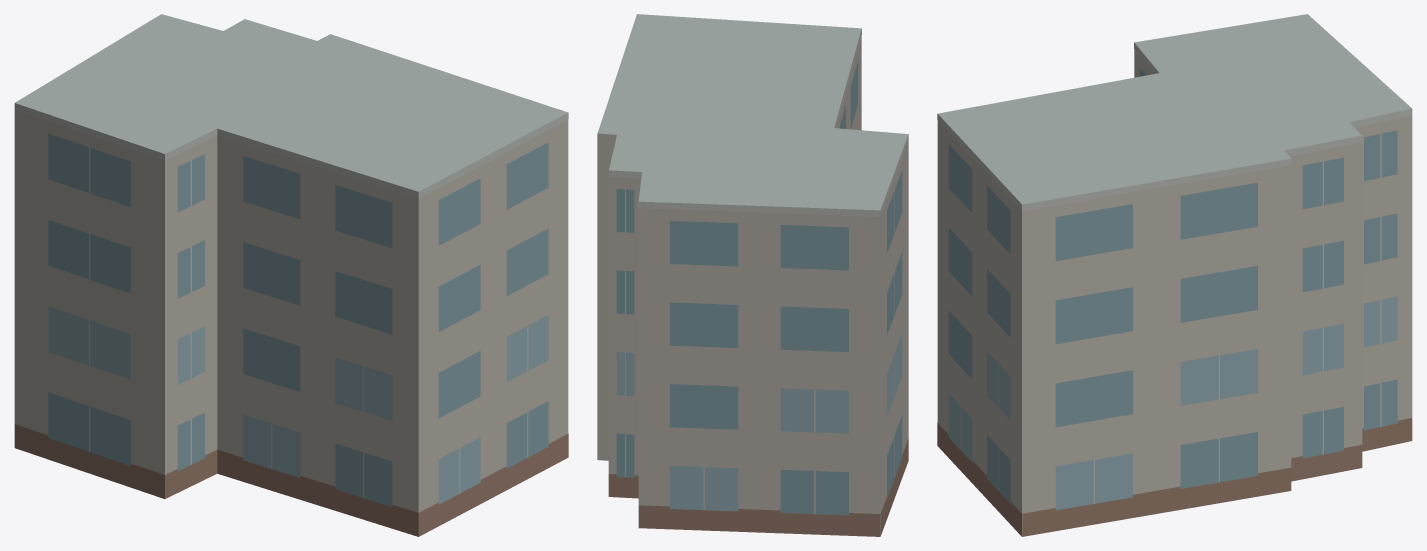
The model's file is survey-upis-32652188.glb.
The picture shows the model from 3 angles, left to right: view 1: azimuth 30°, elevation 25°; view 2: azimuth 150°, elevation 25°; view 3: azimuth 270°, elevation 25°; orthographic projection. The views are drawn at different scales.
Parts seen in each view (by area): view 1: survey-upis-32652188.tmp; view 2: survey-upis-32652188.tmp; view 3: survey-upis-32652188.tmp.
Part boxes in pixels (x1=…): survey-upis-32652188.tmp: x1=14, y1=14, x2=568, y2=536; survey-upis-32652188.tmp: x1=597, y1=14, x2=908, y2=536; survey-upis-32652188.tmp: x1=937, y1=14, x2=1412, y2=536.
Size of the model in its own units: 15.01 by 12.2 by 15.81.
